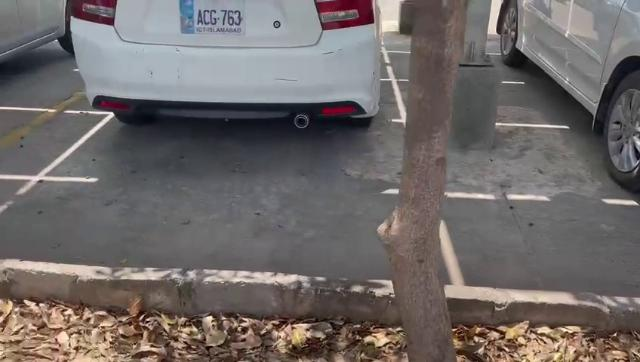plate: (178, 0, 250, 40)
